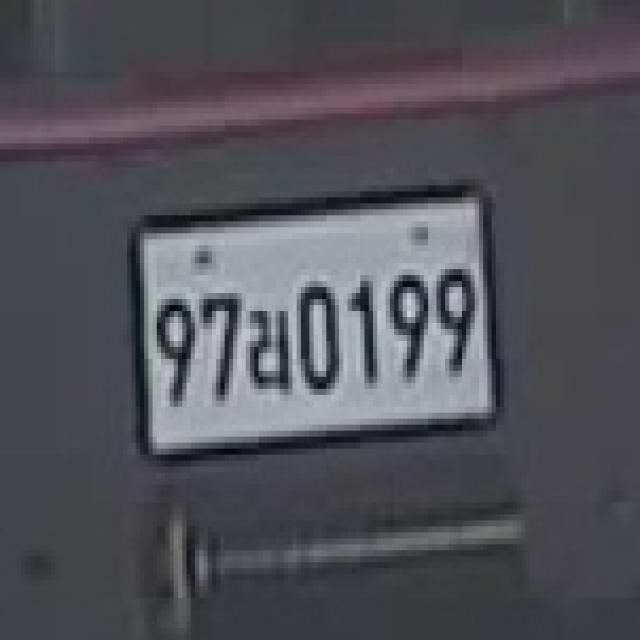0: (294, 274, 346, 402)
1: (348, 270, 386, 399)
7: (199, 286, 243, 410)
9: (436, 259, 480, 386), (152, 290, 195, 416), (392, 264, 430, 390)
leo: (247, 303, 297, 399)
license_plate: (142, 191, 494, 464)
